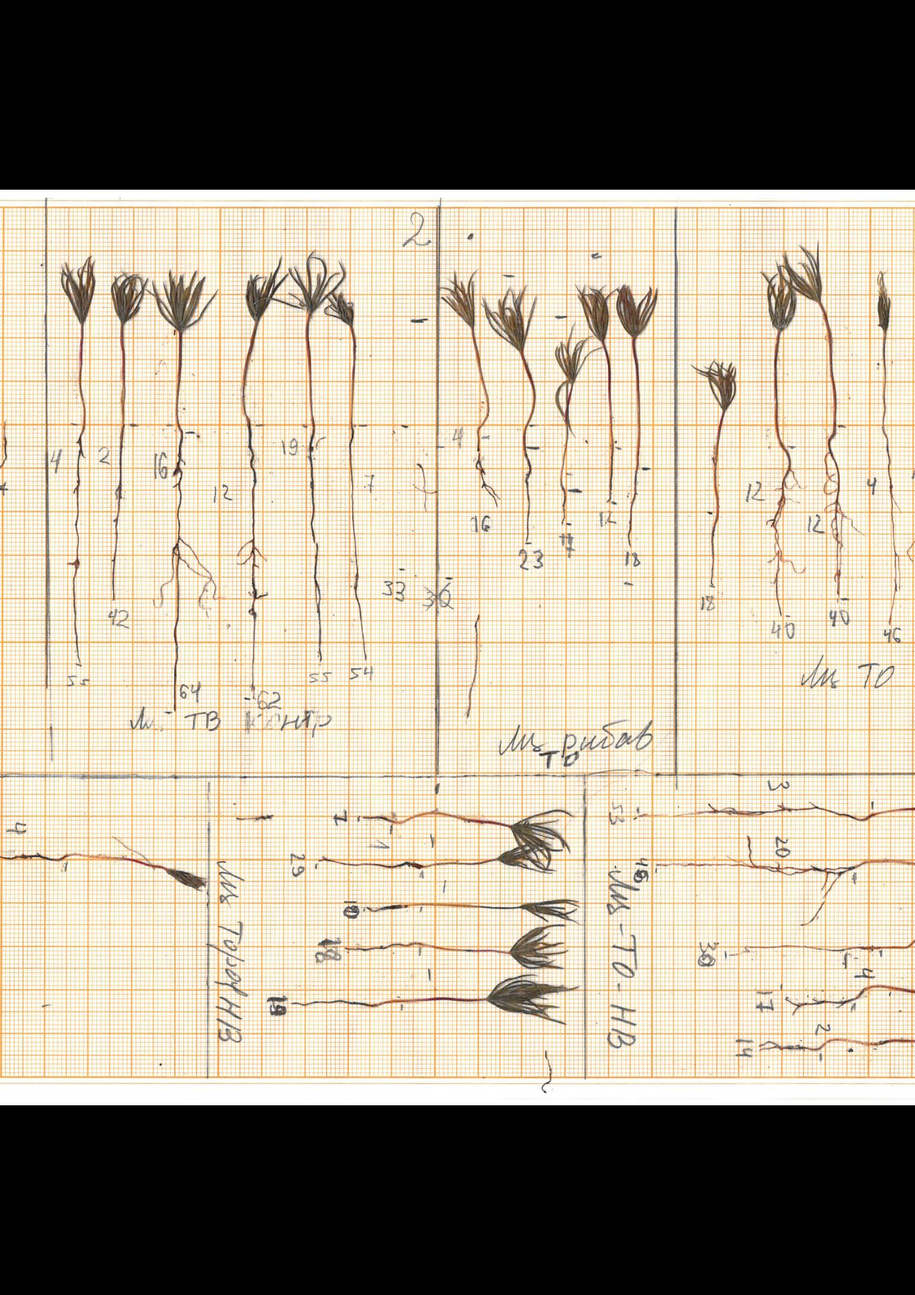pinus: (146, 265, 220, 713), (272, 249, 351, 664), (236, 254, 290, 699), (791, 242, 857, 597), (53, 255, 101, 668), (323, 292, 373, 660), (649, 846, 915, 908), (102, 270, 151, 601), (633, 787, 915, 844), (290, 971, 582, 1026), (754, 255, 797, 618), (867, 270, 907, 629), (441, 265, 497, 512), (486, 292, 541, 541), (615, 281, 663, 553), (688, 352, 742, 590), (546, 335, 603, 530), (341, 923, 573, 970), (0, 842, 209, 893), (351, 805, 571, 852), (756, 1010, 915, 1069), (312, 844, 551, 880), (722, 921, 915, 964), (580, 284, 614, 512), (360, 894, 580, 925), (784, 967, 915, 1019)
